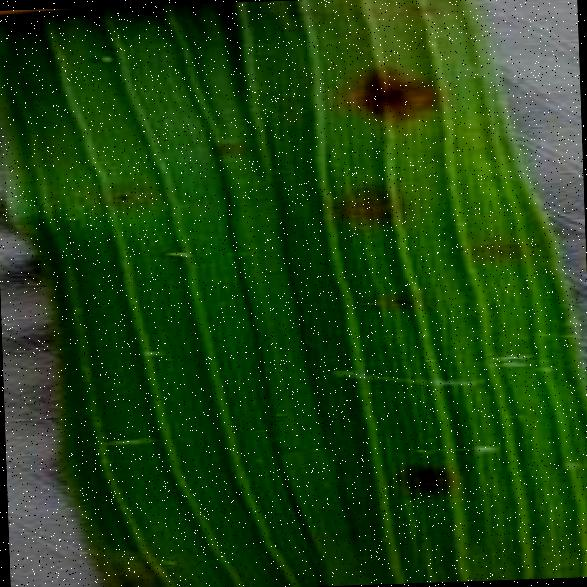Brown_Spot: (329, 36, 448, 138), (324, 172, 419, 240), (379, 438, 462, 507), (94, 177, 152, 214), (380, 284, 426, 317), (74, 42, 104, 70), (95, 48, 119, 68)
